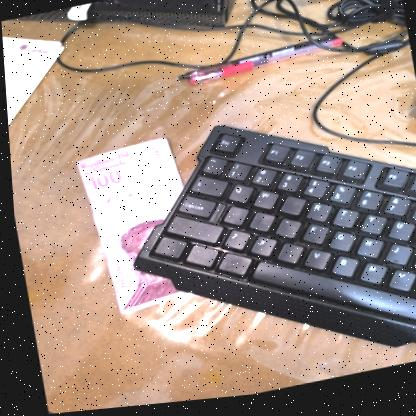one_hundred-front-vef: (71, 136, 201, 322)
